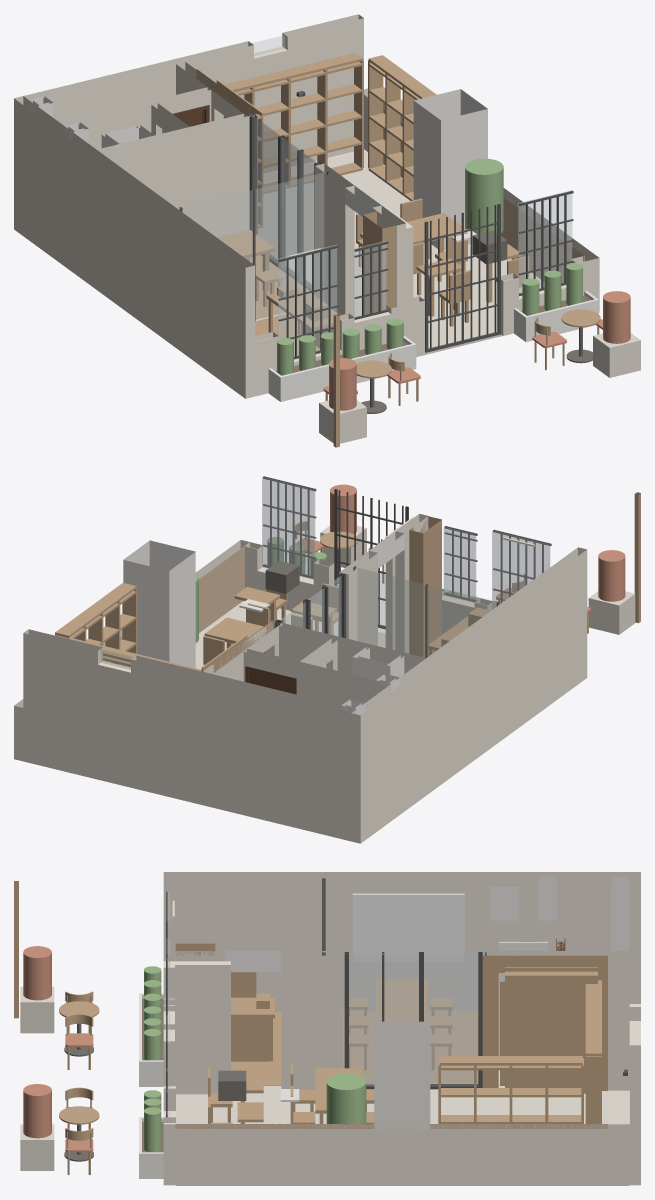
The model's file is MAQUETTE_V7_VISITE.glb.
The picture shows the model from 3 angles, top to bottom: view 1: azimuth 30°, elevation 25°; view 2: azimuth 150°, elevation 25°; view 3: azimuth 270°, elevation 25°; orthographic projection. The views are drawn at different scales.
Visible parts, largest first — view 1: Mur de base:Agglos creux 15 + Enduit 2 Faces 1.5_K&D:4350587, Mur de base:Agglos creux 15 + Enduit 2 Faces 1.5_K&D:4350589, Mur de base:Placo double BA13_K&D:4350621 / 0, 4350609 / 0, Revêtement de sol - Salle de lecture / 0, 4351026 / 0, V6 — rayonnage droit nord-est sous niches / 0, V6 — rayonnage droit est prolongé / 0, Mur de base:Agglos creux 15 + Enduit 2 Faces 1.5_K&D:4350607, V7 — façade rectiligne segmentée autour baies rectangulaires, V7 — porte grille rectangulaire entrée - hypothèse / 0, V7 — vitrage rectangulaire baie A - hypothèse / 0 (+38 smaller); view 2: Mur de base:Agglos creux 15 + Enduit 2 Faces 1.5_K&D:4350589, Mur de base:Agglos creux 15 + Enduit 2 Faces 1.5_K&D:4350587, 4350609 / 0, 4351026 / 0, V7 — vitrage rectangulaire baie C - hypothèse / 0, Habillage menuisé du tableau divisionnaire / 0, Mur de base:Placo double BA13_K&D:4350620 / 0, V6 — rayonnage droit est prolongé / 0, V7 — façade rectiligne segmentée autour baies rectangulaires, V7 — vitrage rectangulaire baie A - hypothèse / 0, Mur de base:Placo double BA13_K&D:4350621 / 0, Mur de base:Agglos creux 15 + Enduit 2 Faces 1.5_K&D:4350607 (+29 smaller); view 3: Mur de base:Agglos creux 15 + Enduit 2 Faces 1.5_K&D:4350587, Mur de base:Agglos creux 15 + Enduit 2 Faces 1.5_K&D:4350588, V7 — rayonnage droit ouest du fond / 0, Mur de base:Agglos creux 15 + Enduit 2 Faces 1.5_K&D:4350607, DECIMO_TB01_Tableau_Mural:ESQ - sur mesure / 0, Caisson porte à galandage / 0, V7 — porte vitrée salle 03 / lecture 01 / 0, 4351026 / 0, V7 — vitrage fixe cloison salle 03 / lecture 01 / 0, Revêtement de sol - Salle de lecture / 0, V6 — rayonnage droit est prolongé / 0, Lambris iroko - refend 4350608 (côté salle de lecture) / 0 (+41 smaller).
Boxes of the visible parts, box(x1,y1,x2,y2) form: Mur de base:Agglos creux 15 + Enduit 2 Faces 1.5_K&D:4350587: box(14, 96, 254, 398); Mur de base:Agglos creux 15 + Enduit 2 Faces 1.5_K&D:4350589: box(23, 14, 363, 173); Mur de base:Placo double BA13_K&D:4350621 / 0: box(96, 113, 247, 237); 4350609 / 0: box(178, 172, 326, 320); Revêtement de sol - Salle de lecture / 0: box(258, 158, 544, 348); 4351026 / 0: box(413, 89, 487, 250); V6 — rayonnage droit nord-est sous niches / 0: box(225, 53, 363, 193); V6 — rayonnage droit est prolongé / 0: box(368, 55, 436, 200); Mur de base:Agglos creux 15 + Enduit 2 Faces 1.5_K&D:4350607: box(315, 163, 354, 316); V7 — façade rectiligne segmentée autour baies rectangulaires: box(255, 256, 589, 396); V7 — porte grille rectangulaire entrée - hypothèse / 0: box(424, 204, 500, 352); V7 — vitrage rectangulaire baie A - hypothèse / 0: box(278, 244, 337, 356); Mur de base:Agglos creux 15 + Enduit 2 Faces 1.5_K&D:4350589: box(23, 629, 356, 841); Mur de base:Agglos creux 15 + Enduit 2 Faces 1.5_K&D:4350587: box(351, 547, 587, 843); 4350609 / 0: box(355, 567, 500, 657); 4351026 / 0: box(123, 540, 195, 667); V7 — vitrage rectangulaire baie C - hypothèse / 0: box(262, 477, 315, 579); Habillage menuisé du tableau divisionnaire / 0: box(409, 516, 441, 657); Mur de base:Placo double BA13_K&D:4350620 / 0: box(243, 649, 391, 705); V6 — rayonnage droit est prolongé / 0: box(54, 583, 137, 667); V7 — façade rectiligne segmentée autour baies rectangulaires: box(244, 542, 492, 634); V7 — vitrage rectangulaire baie A - hypothèse / 0: box(492, 530, 550, 609); Mur de base:Placo double BA13_K&D:4350621 / 0: box(279, 623, 426, 674); Mur de base:Agglos creux 15 + Enduit 2 Faces 1.5_K&D:4350607: box(339, 551, 377, 645); Mur de base:Agglos creux 15 + Enduit 2 Faces 1.5_K&D:4350587: box(163, 872, 640, 1011); Mur de base:Agglos creux 15 + Enduit 2 Faces 1.5_K&D:4350588: box(163, 1124, 640, 1185); V7 — rayonnage droit ouest du fond / 0: box(505, 967, 597, 1093); Mur de base:Agglos creux 15 + Enduit 2 Faces 1.5_K&D:4350607: box(281, 951, 343, 1089); DECIMO_TB01_Tableau_Mural:ESQ - sur mesure / 0: box(352, 893, 464, 962); Caisson porte à galandage / 0: box(175, 961, 230, 1094); V7 — porte vitrée salle 03 / lecture 01 / 0: box(424, 953, 478, 1083); 4351026 / 0: box(374, 1021, 430, 1128); V7 — vitrage fixe cloison salle 03 / lecture 01 / 0: box(348, 953, 418, 1085); Revêtement de sol - Salle de lecture / 0: box(176, 1089, 607, 1123); V6 — rayonnage droit est prolongé / 0: box(438, 1056, 583, 1123); Lambris iroko - refend 4350608 (côté salle de lecture) / 0: box(482, 955, 607, 1090).
Size of the model in its own units: 6.78 by 2.5 by 10.09.
